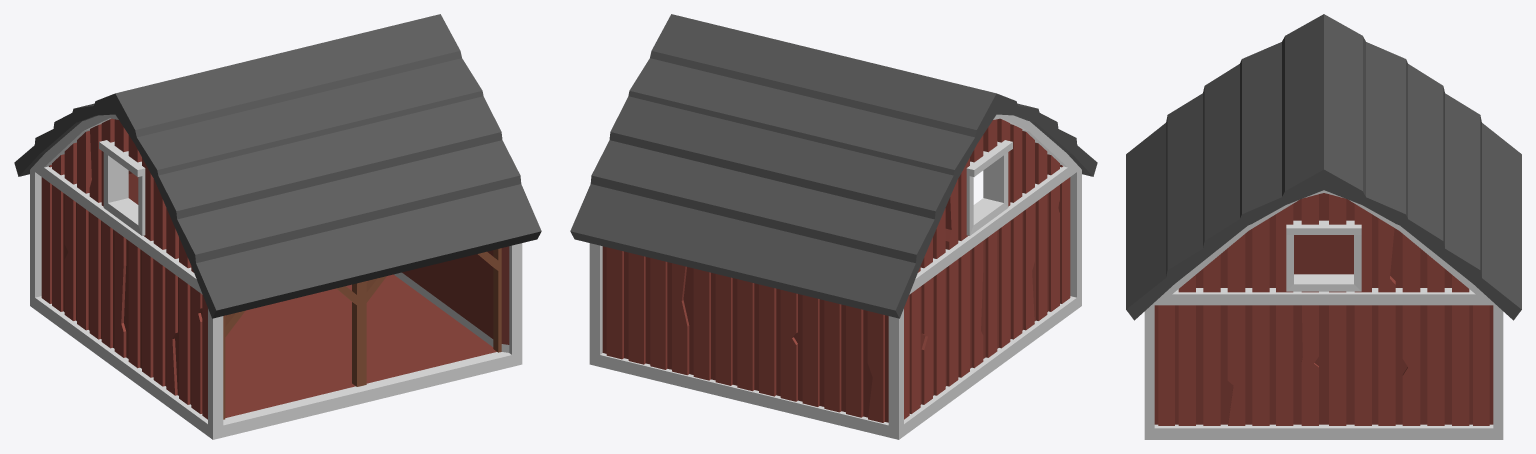
The model's file is openbarn.glb.
3 renders of one model, left to right at view 1: azimuth 30°, elevation 25°; view 2: azimuth 150°, elevation 25°; view 3: azimuth 270°, elevation 25°, orthographic. The views are drawn at different scales.
Parts seen in each view (by area): view 1: OpenBarn; view 2: OpenBarn; view 3: OpenBarn.
Part boxes in pixels (x1=…): OpenBarn: x1=14, y1=14, x2=541, y2=439; OpenBarn: x1=570, y1=14, x2=1097, y2=439; OpenBarn: x1=1126, y1=14, x2=1521, y2=439.
Bounding box in the file's own units: 5.74 × 4.74 × 6.18.
